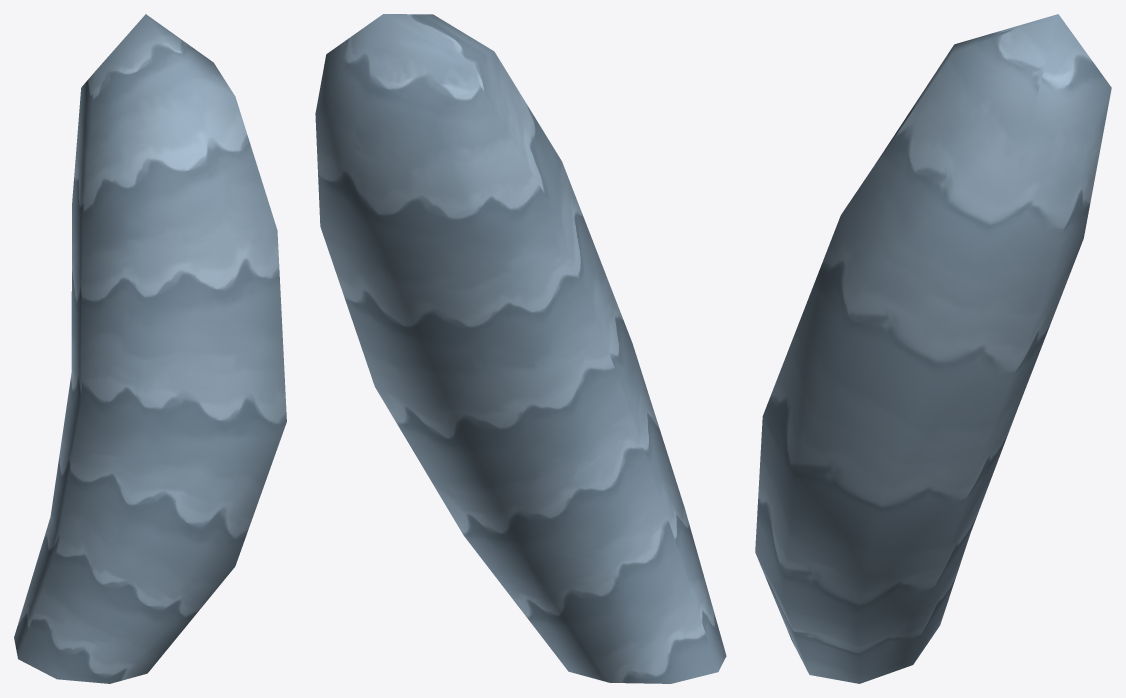
File: EarsBunL.fbx
3 renders of one model, left to right at view 1: azimuth 30°, elevation 25°; view 2: azimuth 150°, elevation 25°; view 3: azimuth 270°, elevation 25°, orthographic. The views are drawn at different scales.
Visible parts, largest first — view 1: EarsBunL; view 2: EarsBunL; view 3: EarsBunL.
Boxes of the visible parts, box(x1,y1,x2,y2) form: EarsBunL: box(14, 14, 286, 683); EarsBunL: box(315, 14, 726, 683); EarsBunL: box(755, 14, 1111, 683).
Bounding box in the file's own units: 94.57 × 180 × 80.89.
